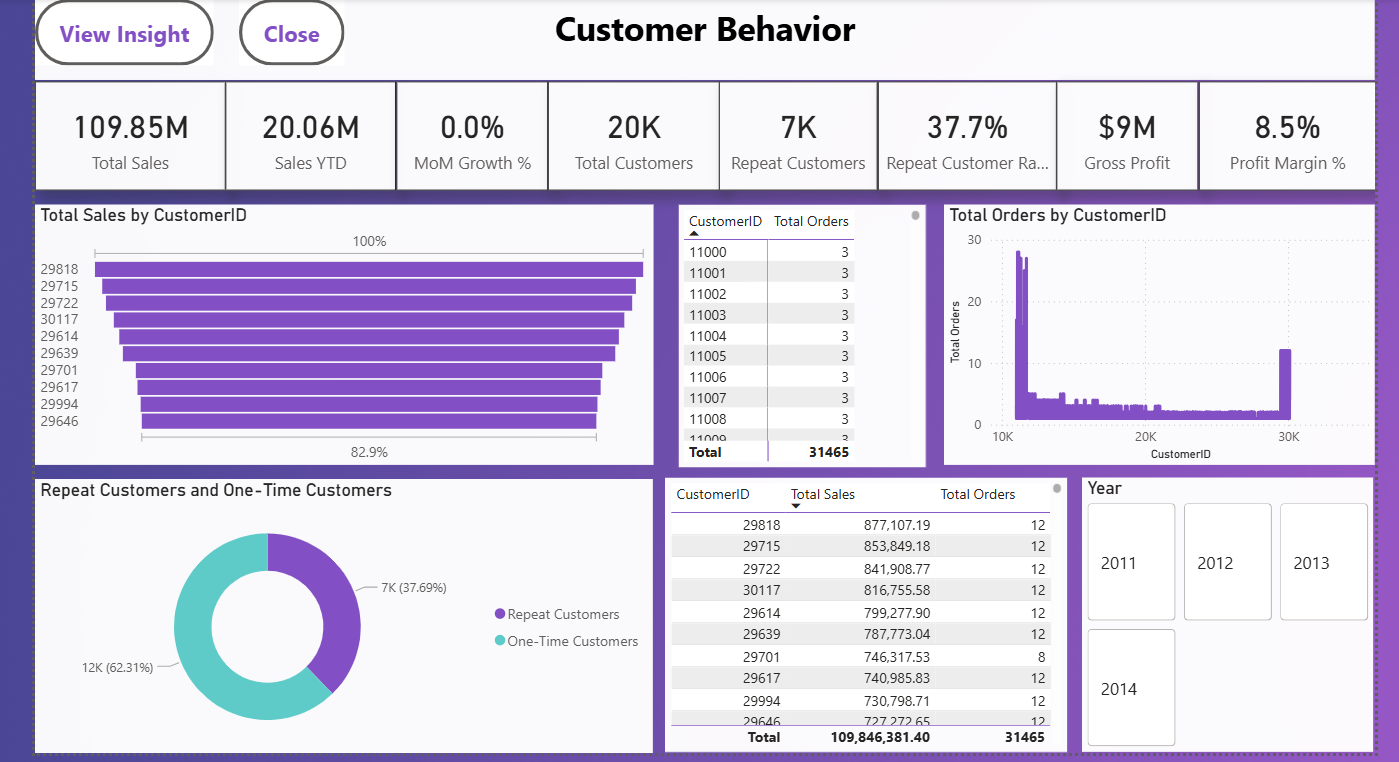

Layout of this report page (visuals, bound fields, positions):
{"tool":"powerbi","page":{"name":"Customer Behavior","canvas":[1280,720],"ordinal":1},"visuals":[{"type":"card","fields":{"Values":["FactSales.Total Sales"]},"box":[0,78.1,182.2,104.1],"z":0},{"type":"card","fields":{"Values":["FactSales.Sales YTD"]},"box":[182.2,78.1,162.7,104.1],"z":1000},{"type":"card","fields":{"Values":["FactSales.MoM Growth %"]},"box":[344.8,78.1,144.8,104.1],"z":2000},{"type":"card","fields":{"Values":["FactSales.Total Customers"]},"box":[489.6,78.1,164.3,104.1],"z":3000},{"type":"card","fields":{"Values":["FactSales.Repeat Customers"]},"box":[653.9,78.1,151.3,104.1],"z":4000},{"type":"card","fields":{"Values":["FactSales.Repeat Customer Rate %"]},"box":[805.1,78.1,170.8,104.1],"z":5000},{"type":"funnel","fields":{"Category":["DimCustomer.CustomerID"],"Y":["FactSales.Total Sales"]},"box":[0,196.8,590.4,248.9],"z":6000},{"type":"pivotTable","fields":{"Rows":["DimCustomer.CustomerID"],"Values":["FactSales.Total Orders"]},"box":[614.8,196.8,235.8,250.5],"z":7000},{"type":"donutChart","fields":{"Y":["FactSales.Repeat Customers","FactSales.One-Time Customers"]},"box":[0,458.4,590.1,262.1],"z":8000},{"type":"tableEx","fields":{"Values":["DimCustomer.CustomerID","FactSales.Total Sales","FactSales.Total Orders"]},"box":[601.8,457.1,383.9,261.9],"z":9000},{"type":"advancedSlicerVisual","fields":{"Values":["DimDate.Year"]},"box":[1000.3,457.1,278.1,261.9],"z":10000},{"type":"textbox","box":[0,0,1279.5,77.2],"z":11000},{"type":"card","fields":{"Values":["FactSales.Gross Profit"]},"box":[975.9,78.1,135,104.1],"z":12000},{"type":"card","fields":{"Values":["FactSales.Profit Margin %"]},"box":[1110.9,78.1,169.2,104.1],"z":13000},{"type":"actionButton","box":[0,0,170.8,63.4],"z":15000},{"type":"actionButton","title":"button 2","box":[195.2,0,100.8,63.4],"z":17000},{"type":"lineChart","fields":{"Category":["DimCustomer.CustomerID"],"Y":["FactSales.Total Orders"]},"box":[868.6,196.8,411.5,248.9],"z":18000}]}

Visuals, with their boxes in screenshot pixels (x1, y1, x2, y2):
card - FactSales.Total Sales: x1=33 y1=78 x2=223 y2=186
card - FactSales.Sales YTD: x1=223 y1=78 x2=392 y2=186
card - FactSales.MoM Growth %: x1=392 y1=78 x2=543 y2=186
card - FactSales.Total Customers: x1=543 y1=78 x2=715 y2=186
card - FactSales.Repeat Customers: x1=715 y1=78 x2=873 y2=186
card - FactSales.Repeat Customer Rate %: x1=872 y1=78 x2=1051 y2=186
funnel - DimCustomer.CustomerID x FactSales.Total Sales: x1=33 y1=202 x2=649 y2=461
pivotTable - DimCustomer.CustomerID x FactSales.Total Orders: x1=674 y1=202 x2=920 y2=463
donutChart - FactSales.Repeat Customers x FactSales.One-Time Customers: x1=33 y1=474 x2=648 y2=748
tableEx - DimCustomer.CustomerID x FactSales.Total Sales: x1=660 y1=473 x2=1061 y2=746
advancedSlicerVisual - DimDate.Year: x1=1076 y1=473 x2=1366 y2=746
textbox: x1=33 y1=0 x2=1367 y2=77
card - FactSales.Gross Profit: x1=1051 y1=78 x2=1191 y2=186
card - FactSales.Profit Margin %: x1=1191 y1=78 x2=1368 y2=186
actionButton: x1=33 y1=0 x2=211 y2=62
"button 2" actionButton: x1=236 y1=0 x2=341 y2=62
lineChart - DimCustomer.CustomerID x FactSales.Total Orders: x1=939 y1=202 x2=1368 y2=461
